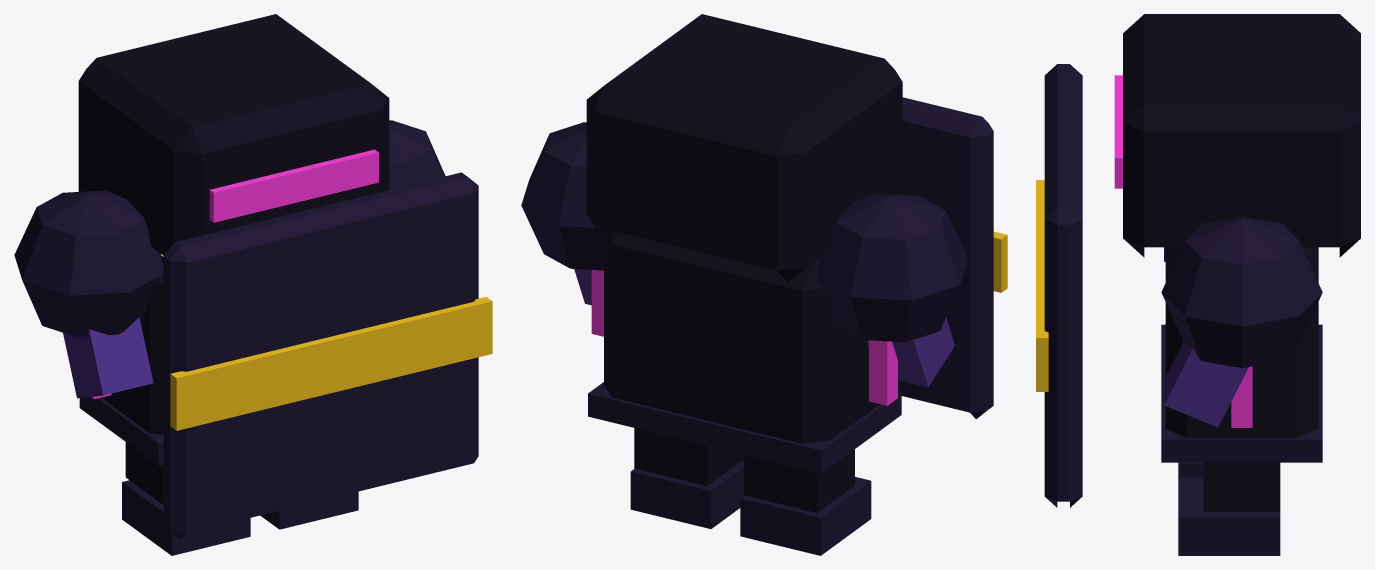
Rendered from brute_r16.glb.
3 renders of one model, left to right at view 1: azimuth 30°, elevation 25°; view 2: azimuth 150°, elevation 25°; view 3: azimuth 270°, elevation 25°, orthographic. The views are drawn at different scales.
Parts seen in each view (by area): view 1: brute_r16_mesh; view 2: brute_r16_mesh; view 3: brute_r16_mesh.
Boxes of the visible parts, x1=… form: brute_r16_mesh: x1=14, y1=14, x2=492, y2=555; brute_r16_mesh: x1=521, y1=14, x2=1007, y2=555; brute_r16_mesh: x1=1036, y1=14, x2=1360, y2=555.
Size of the model in its own units: 2.22 by 2.2 by 1.44.
1 material, 1 textured.
